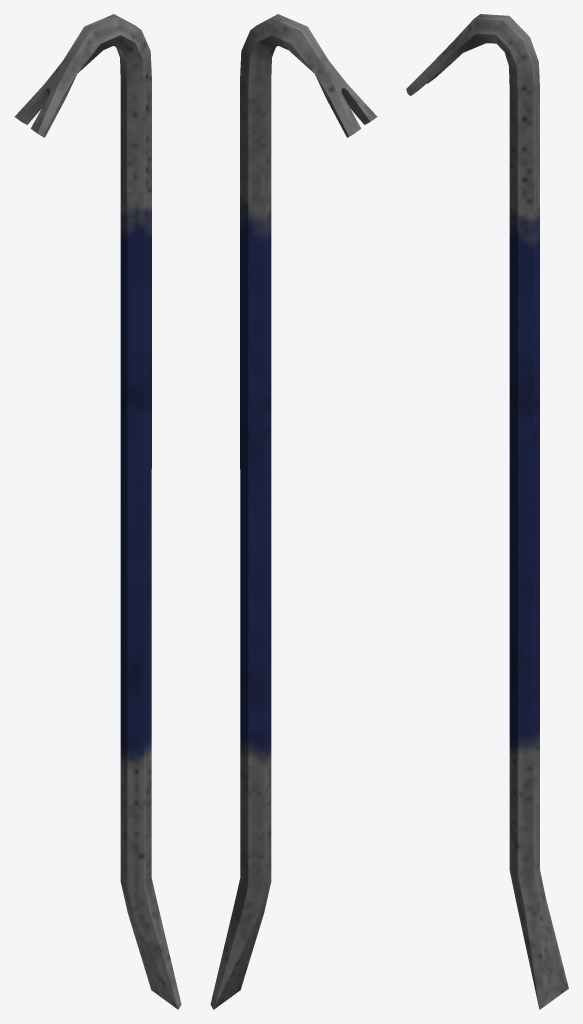
The model's file is crowbar.obj.
3 renders of one model, left to right at view 1: azimuth 30°, elevation 25°; view 2: azimuth 150°, elevation 25°; view 3: azimuth 330°, elevation 25°, orthographic. The views are drawn at different scales.
Parts seen in each view (by area): view 1: crowbar; view 2: crowbar; view 3: crowbar.
Part boxes in pixels (x1=…): crowbar: x1=14, y1=14, x2=181, y2=1009; crowbar: x1=210, y1=14, x2=377, y2=1009; crowbar: x1=406, y1=14, x2=568, y2=1009.
Size of the model in its own units: 0.2075 by 1.38 by 0.0681.
